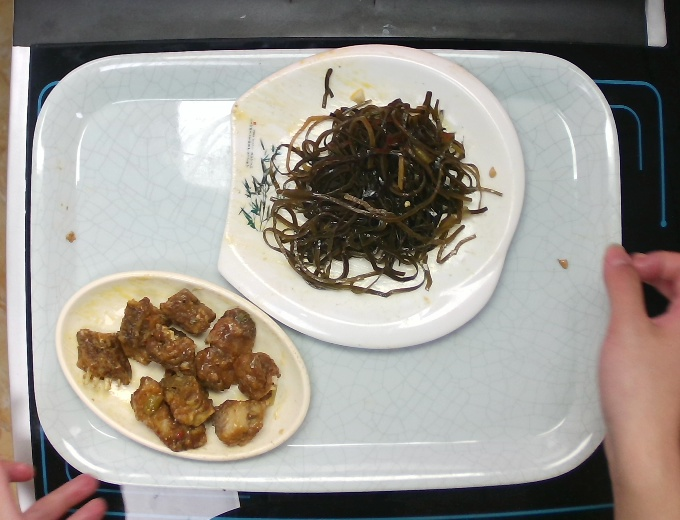JYsf-Mian_Pan: (217, 44, 530, 354)
JYsf-Tuo_Yuan_Wan: (53, 269, 314, 461)
